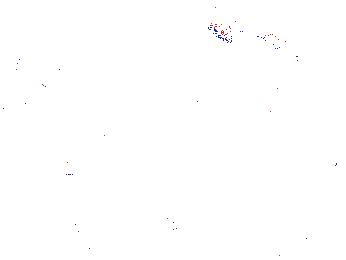X-ray fish: (3, 35, 35, 80)
glassfish: (201, 20, 314, 70)
